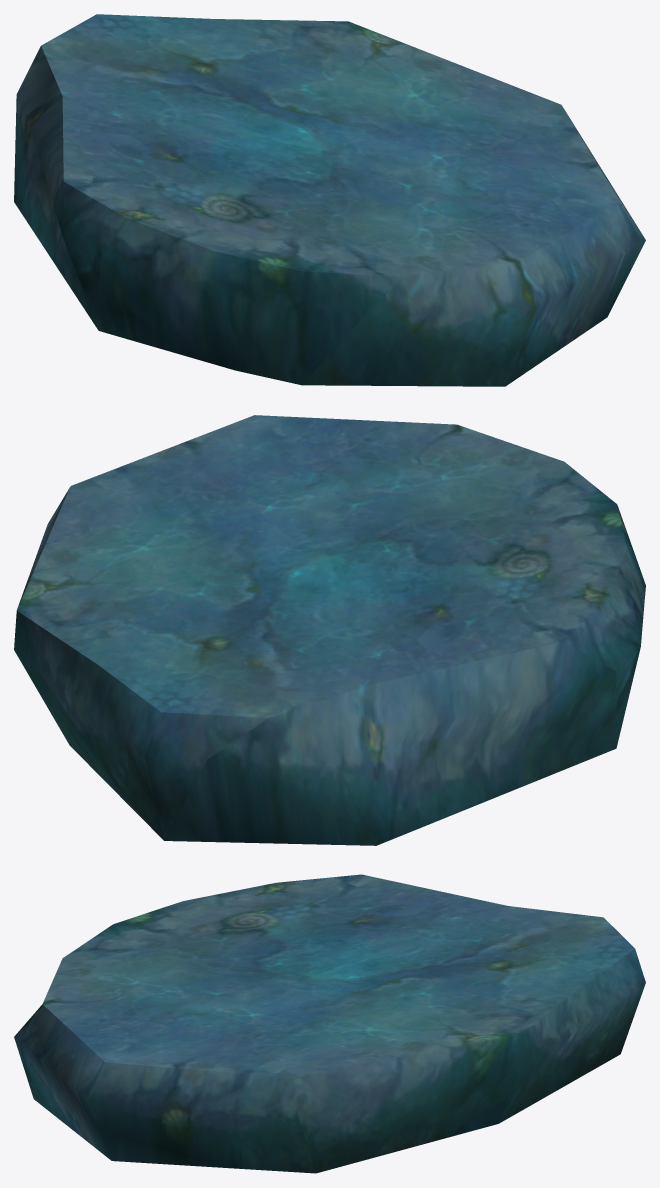
Rendered from environment_stone_seahaidi_001_a.FBX.
The picture shows the model from 3 angles, top to bottom: view 1: azimuth 30°, elevation 25°; view 2: azimuth 150°, elevation 25°; view 3: azimuth 270°, elevation 25°; orthographic projection. The views are drawn at different scales.
Visible parts, largest first — view 1: environment_stone_seahaidi_001_a; view 2: environment_stone_seahaidi_001_a; view 3: environment_stone_seahaidi_001_a.
Boxes of the visible parts, left/top/right/bottom form: environment_stone_seahaidi_001_a: left=14, top=14, right=645, bottom=386; environment_stone_seahaidi_001_a: left=14, top=415, right=645, bottom=845; environment_stone_seahaidi_001_a: left=14, top=874, right=645, bottom=1173.
Bounding box in the file's own units: 513 × 136 × 640.
1 material, 1 textured.
